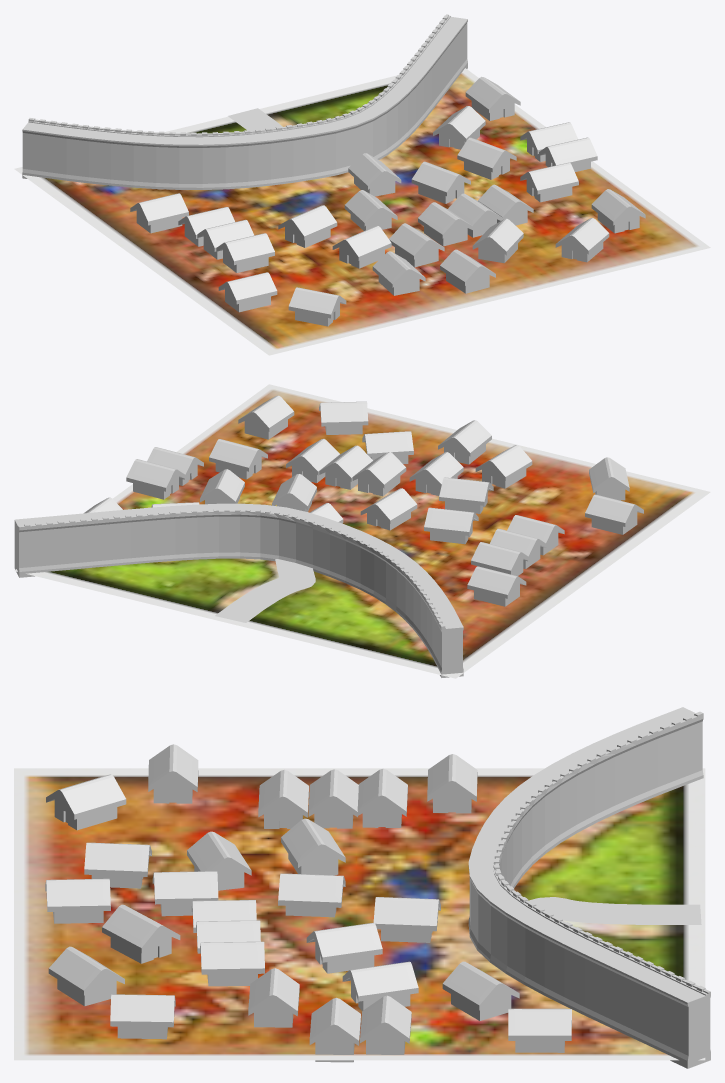
The model's file is tile14.fbx.
3 renders of one model, top to bottom at view 1: azimuth 30°, elevation 25°; view 2: azimuth 150°, elevation 25°; view 3: azimuth 270°, elevation 25°, orthographic. The views are drawn at different scales.
Visible parts, largest first — view 1: tile14; view 2: tile14; view 3: tile14.
Boxes of the visible parts, bbox=[...] form: tile14: bbox=[14, 14, 710, 355]; tile14: bbox=[14, 384, 710, 678]; tile14: bbox=[14, 707, 710, 1068].
Bounding box in the file's own units: 102 × 11.6 × 101.
